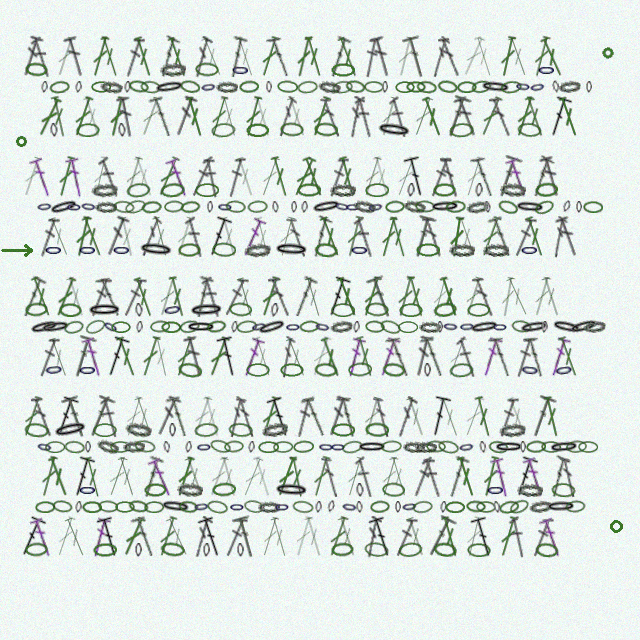chain: (52, 419, 89, 440), (376, 121, 412, 139), (48, 197, 80, 217), (256, 317, 288, 337), (138, 241, 174, 258), (568, 317, 600, 336), (189, 302, 224, 318), (274, 482, 309, 498), (29, 318, 60, 336), (551, 318, 582, 336), (261, 420, 289, 439), (311, 198, 342, 215), (274, 242, 309, 257), (154, 79, 185, 95), (40, 319, 71, 335), (469, 319, 500, 335), (519, 319, 550, 335), (87, 303, 122, 317), (177, 361, 203, 379), (160, 499, 191, 514), (125, 421, 152, 438), (84, 317, 107, 336), (508, 497, 531, 516), (480, 80, 511, 94), (91, 182, 118, 198), (244, 242, 271, 258), (499, 422, 526, 438), (160, 541, 185, 558), (364, 541, 389, 558), (398, 541, 423, 558), (515, 200, 545, 214), (549, 440, 579, 454), (533, 198, 556, 216), (379, 318, 402, 336), (433, 301, 457, 318), (96, 438, 120, 455), (433, 541, 457, 558), (211, 122, 236, 138), (449, 122, 474, 138), (517, 122, 542, 138), (126, 182, 151, 198), (160, 182, 185, 198), (449, 362, 474, 378), (24, 422, 49, 438), (194, 422, 219, 438), (228, 422, 253, 438), (551, 482, 576, 498), (497, 198, 519, 216), (124, 198, 147, 215), (209, 438, 232, 455), (160, 62, 186, 77), (500, 182, 526, 197), (430, 200, 460, 213), (177, 482, 203, 497), (546, 500, 576, 513), (314, 242, 338, 258), (314, 362, 338, 378), (382, 362, 406, 378), (535, 542, 559, 558), (466, 199, 489, 215), (341, 439, 364, 455), (437, 439, 460, 455), (206, 499, 229, 515), (330, 183, 356, 197), (449, 243, 475, 257), (483, 243, 509, 257), (517, 483, 543, 497), (195, 62, 219, 77), (280, 122, 304, 137), (314, 122, 338, 137), (212, 242, 236, 257), (365, 302, 389, 317), (186, 321, 216, 333), (348, 362, 372, 377), (365, 422, 389, 437), (357, 441, 387, 453), (494, 441, 524, 453), (212, 482, 236, 497), (162, 301, 183, 318), (63, 319, 85, 335), (498, 499, 520, 515), (25, 62, 48, 77), (558, 79, 581, 94), (535, 182, 558, 197), (353, 199, 376, 214), (403, 199, 426, 214), (25, 302, 48, 317), (229, 302, 252, 317), (330, 319, 353, 334), (583, 319, 606, 334), (382, 482, 405, 497), (529, 499, 552, 514), (25, 542, 48, 557), (331, 542, 354, 557), (101, 318, 120, 336), (331, 63, 355, 77), (76, 123, 100, 137), (195, 183, 219, 197), (297, 183, 321, 197), (365, 183, 389, 197), (416, 243, 440, 257), (331, 303, 355, 317), (399, 303, 423, 317), (246, 363, 270, 377), (280, 363, 304, 377), (93, 423, 117, 437), (331, 423, 355, 437), (93, 543, 117, 557), (467, 543, 491, 557), (179, 79, 201, 94), (236, 319, 258, 334), (134, 439, 156, 454), (243, 499, 265, 514), (100, 80, 123, 94), (318, 80, 341, 94), (246, 123, 269, 137), (433, 183, 456, 197), (178, 243, 201, 257), (59, 303, 82, 317), (467, 303, 490, 317), (144, 483, 167, 497), (520, 362, 540, 378), (554, 362, 574, 378), (128, 79, 149, 94), (345, 79, 366, 94), (437, 79, 458, 94), (471, 79, 492, 94), (179, 319, 200, 334), (206, 319, 227, 334), (511, 319, 532, 334), (52, 499, 73, 514), (128, 499, 149, 514), (500, 80, 522, 94), (113, 200, 135, 214), (292, 500, 314, 514), (44, 362, 64, 377), (49, 80, 70, 94), (140, 80, 161, 94), (297, 80, 318, 94), (332, 80, 353, 94), (416, 80, 437, 94), (141, 200, 162, 214), (180, 200, 201, 214), (64, 440, 85, 454), (488, 440, 509, 454), (178, 500, 199, 514), (412, 500, 433, 514), (123, 440, 145, 453), (277, 80, 298, 93), (225, 200, 246, 213), (247, 200, 268, 213), (445, 200, 466, 213), (299, 320, 320, 333), (293, 440, 314, 453), (381, 440, 402, 453), (566, 440, 587, 453), (565, 500, 586, 513), (333, 199, 351, 214), (250, 319, 268, 334), (231, 63, 250, 77), (537, 63, 556, 77), (44, 243, 63, 257), (78, 243, 97, 257), (112, 243, 131, 257), (350, 243, 369, 257), (520, 243, 539, 257), (78, 363, 97, 377), (78, 483, 97, 497), (486, 483, 505, 497), (216, 81, 238, 93), (95, 201, 117, 213), (419, 321, 441, 333), (403, 441, 425, 453), (415, 441, 437, 453), (258, 501, 280, 513), (239, 80, 259, 93), (164, 200, 184, 213), (385, 200, 405, 213), (415, 200, 435, 213), (150, 320, 170, 333), (365, 320, 385, 333), (224, 440, 244, 453), (426, 440, 446, 453), (526, 440, 546, 453), (98, 500, 118, 513), (370, 500, 390, 513), (466, 500, 486, 513), (110, 441, 131, 453), (258, 441, 279, 453), (91, 81, 111, 93), (364, 81, 384, 93), (395, 81, 415, 93), (406, 81, 426, 93), (457, 81, 477, 93), (583, 201, 603, 213), (111, 321, 131, 333), (161, 321, 181, 333), (398, 321, 418, 333), (45, 441, 65, 453), (273, 441, 293, 453), (541, 441, 561, 453), (578, 441, 598, 453), (35, 501, 55, 513), (82, 501, 102, 513), (115, 501, 135, 513), (144, 501, 164, 513), (445, 501, 465, 513), (476, 501, 496, 513), (200, 80, 217, 94), (529, 80, 546, 94), (367, 200, 384, 214), (314, 320, 331, 334), (36, 440, 53, 454), (458, 440, 475, 454), (341, 500, 358, 514), (36, 200, 53, 213), (80, 200, 97, 213), (442, 320, 459, 333), (193, 500, 210, 513), (401, 500, 418, 513), (515, 80, 531, 93), (459, 320, 475, 333), (66, 201, 82, 213), (217, 201, 233, 213), (345, 201, 361, 213), (285, 321, 301, 333), (492, 321, 508, 333), (196, 441, 212, 453), (318, 441, 334, 453), (330, 441, 346, 453), (229, 501, 245, 513), (274, 501, 290, 513), (270, 303, 279, 317), (562, 200, 571, 213), (50, 123, 58, 137), (118, 123, 126, 137), (407, 183, 415, 197), (475, 183, 483, 197), (135, 303, 143, 317), (356, 483, 364, 497), (552, 80, 560, 93), (327, 500, 335, 513), (424, 363, 431, 377), (169, 423, 176, 437), (135, 543, 142, 557), (203, 543, 210, 557), (237, 543, 244, 557), (163, 441, 171, 453), (479, 441, 487, 453), (493, 501, 501, 513), (41, 81, 48, 93), (75, 81, 82, 93), (124, 81, 131, 93), (272, 201, 279, 213), (301, 201, 308, 213), (484, 201, 491, 213), (136, 321, 143, 333), (231, 321, 238, 333), (353, 321, 360, 333), (541, 321, 548, 333), (185, 441, 192, 453), (248, 441, 255, 453), (75, 501, 82, 513), (315, 501, 322, 513), (356, 501, 363, 513), (440, 501, 447, 513), (266, 81, 272, 93), (382, 81, 388, 93), (586, 81, 592, 93), (207, 201, 213, 213), (291, 201, 297, 213), (576, 201, 582, 213), (437, 321, 443, 333), (85, 441, 91, 453), (520, 441, 526, 453), (395, 501, 401, 513)
double: (423, 515, 457, 559), (84, 395, 116, 439), (366, 275, 397, 319), (16, 515, 47, 559), (442, 95, 472, 139), (493, 155, 523, 199), (61, 395, 91, 439), (527, 395, 557, 439), (17, 275, 47, 318), (204, 215, 233, 259), (323, 275, 352, 319), (102, 335, 131, 379), (51, 395, 80, 439), (197, 515, 226, 559), (34, 96, 64, 138), (459, 35, 488, 78), (95, 275, 124, 318), (289, 275, 318, 318), (503, 275, 532, 318), (153, 395, 182, 438), (119, 515, 148, 558), (163, 515, 192, 558), (402, 35, 430, 79), (545, 95, 573, 139), (409, 215, 437, 259), (69, 335, 97, 379), (266, 395, 294, 439), (511, 455, 539, 499), (232, 515, 260, 559), (368, 515, 396, 559), (198, 35, 226, 78), (324, 35, 352, 78), (453, 95, 481, 138), (477, 95, 505, 138), (154, 155, 182, 198), (45, 215, 73, 258), (385, 335, 413, 378), (300, 395, 328, 438), (69, 455, 96, 499), (96, 515, 123, 559), (470, 515, 497, 559), (538, 36, 566, 78), (290, 156, 318, 198), (239, 216, 267, 258), (147, 456, 175, 498), (266, 35, 293, 78), (137, 95, 164, 138), (409, 95, 436, 138), (419, 95, 446, 138), (256, 155, 283, 198), (300, 155, 327, 198), (392, 155, 419, 198), (470, 155, 497, 198), (528, 155, 555, 198), (79, 215, 106, 258), (103, 215, 130, 258), (317, 215, 344, 258), (477, 215, 504, 258), (487, 215, 514, 258), (555, 215, 582, 258), (28, 275, 55, 318), (334, 275, 361, 318), (113, 335, 140, 378), (205, 335, 232, 378), (419, 335, 446, 378), (555, 335, 582, 378), (460, 395, 487, 438), (504, 395, 531, 438), (45, 455, 72, 498), (205, 455, 232, 498), (273, 455, 300, 498), (443, 455, 470, 498), (130, 515, 157, 558), (52, 276, 79, 318), (283, 336, 310, 378), (239, 456, 266, 498), (62, 516, 89, 558), (155, 35, 181, 78), (505, 35, 531, 78), (70, 95, 96, 138), (148, 95, 174, 138), (172, 95, 198, 138), (284, 95, 310, 138), (308, 95, 334, 138), (522, 95, 548, 138), (556, 95, 582, 138), (19, 155, 45, 198), (131, 155, 157, 198), (403, 155, 429, 198), (454, 215, 480, 258), (522, 215, 548, 258), (63, 275, 89, 318), (257, 275, 283, 318), (308, 335, 334, 378), (488, 335, 514, 378), (19, 395, 45, 438), (131, 395, 157, 438), (189, 395, 215, 438), (403, 395, 429, 438), (104, 455, 130, 498), (138, 455, 164, 498), (182, 455, 208, 498), (325, 515, 351, 558), (403, 515, 429, 558), (222, 276, 249, 317), (335, 36, 361, 78), (165, 156, 191, 198), (189, 156, 215, 198), (121, 276, 147, 318), (46, 336, 72, 378), (318, 336, 344, 378), (444, 336, 470, 378), (437, 396, 463, 438), (29, 516, 55, 558), (19, 35, 44, 78), (53, 35, 78, 78), (63, 35, 88, 78), (131, 35, 156, 78), (233, 35, 258, 78), (257, 35, 282, 78), (471, 35, 496, 78), (80, 95, 105, 138), (512, 95, 537, 138), (121, 155, 146, 198), (233, 155, 258, 198), (539, 155, 564, 198), (172, 215, 197, 258), (308, 215, 333, 258), (155, 275, 180, 318), (359, 275, 384, 318), (437, 275, 462, 318), (461, 275, 486, 318), (539, 275, 564, 318), (138, 335, 163, 378), (172, 335, 197, 378), (216, 335, 241, 378), (250, 335, 275, 378), (376, 335, 401, 378), (121, 395, 146, 438), (165, 395, 190, 438), (257, 395, 282, 438), (325, 395, 350, 438), (427, 395, 452, 438), (250, 455, 275, 498), (342, 455, 367, 498), (386, 455, 411, 498), (454, 455, 479, 498), (522, 455, 547, 498), (546, 455, 571, 498), (53, 515, 78, 558), (155, 515, 180, 558), (291, 515, 316, 558), (335, 515, 360, 558), (165, 36, 190, 78), (29, 156, 54, 198), (97, 156, 122, 198), (505, 156, 530, 198), (512, 216, 537, 258), (131, 276, 156, 318), (240, 336, 265, 378), (393, 396, 418, 438), (223, 516, 248, 558), (393, 516, 418, 558), (539, 516, 564, 558), (88, 35, 112, 78), (98, 35, 122, 78), (224, 35, 248, 78), (302, 35, 326, 78), (370, 35, 394, 78), (183, 95, 207, 138), (207, 95, 231, 138), (217, 95, 241, 138), (241, 95, 265, 138), (251, 95, 275, 138), (377, 95, 401, 138), (54, 155, 78, 198), (268, 155, 292, 198), (360, 155, 384, 198), (370, 155, 394, 198), (462, 155, 486, 198), (217, 215, 241, 258), (190, 275, 214, 318), (404, 275, 428, 318), (530, 275, 554, 318), (81, 335, 105, 378), (183, 335, 207, 378), (353, 335, 377, 378), (479, 335, 503, 378), (523, 335, 547, 378), (547, 335, 571, 378), (200, 395, 224, 438), (360, 395, 384, 438), (37, 455, 61, 498), (115, 455, 139, 498), (173, 455, 197, 498), (217, 455, 241, 498), (309, 455, 333, 498), (377, 455, 401, 498), (258, 515, 282, 558), (302, 515, 326, 558), (438, 515, 462, 558), (496, 515, 520, 558), (138, 216, 163, 257), (428, 156, 452, 198), (88, 276, 112, 318), (455, 336, 479, 378), (411, 456, 435, 498), (530, 516, 554, 558), (394, 35, 417, 78), (530, 35, 553, 78), (336, 155, 359, 198), (149, 215, 172, 258), (275, 215, 298, 258), (343, 215, 366, 258), (166, 275, 189, 318), (394, 275, 417, 318), (336, 395, 359, 438), (472, 395, 495, 438), (479, 455, 502, 498), (462, 515, 485, 558), (30, 36, 53, 78), (190, 36, 213, 78), (438, 36, 461, 78), (489, 96, 512, 138), (37, 216, 60, 258), (353, 216, 376, 258), (377, 216, 400, 258), (387, 216, 410, 258), (234, 276, 257, 318), (268, 276, 291, 318), (302, 276, 325, 318), (472, 276, 495, 318), (37, 336, 60, 378), (421, 456, 444, 498), (190, 516, 213, 558), (268, 516, 291, 558), (497, 35, 519, 78), (48, 95, 70, 138), (106, 95, 128, 138), (89, 155, 111, 198), (72, 215, 94, 258), (116, 215, 138, 258), (150, 335, 172, 378), (412, 335, 434, 378), (541, 395, 563, 438), (275, 96, 298, 137), (123, 36, 145, 78), (293, 36, 315, 78), (429, 36, 451, 78), (320, 96, 342, 138), (388, 96, 410, 138), (327, 156, 349, 198), (184, 216, 206, 258), (252, 216, 274, 258), (286, 216, 308, 258), (201, 276, 223, 318), (429, 276, 451, 318), (344, 336, 366, 378), (31, 396, 53, 438), (99, 396, 121, 438), (497, 396, 519, 438), (82, 456, 104, 498), (354, 456, 376, 498), (490, 456, 512, 498), (89, 516, 111, 558), (116, 96, 137, 138), (354, 96, 375, 138), (65, 156, 86, 198), (422, 216, 443, 258), (514, 336, 535, 378), (345, 96, 365, 138), (226, 156, 246, 198), (447, 216, 467, 258), (498, 276, 518, 318), (226, 396, 246, 438), (236, 396, 256, 438), (294, 396, 314, 438), (287, 456, 307, 498), (362, 516, 382, 558), (508, 516, 528, 558), (202, 156, 221, 198), (440, 156, 459, 198), (321, 456, 340, 498), (550, 216, 568, 258), (278, 336, 296, 378), (373, 396, 391, 438), (363, 36, 380, 78), (560, 456, 577, 498)
noise: (0, 243, 35, 257), (608, 518, 625, 535), (14, 134, 28, 148), (601, 46, 615, 60)
